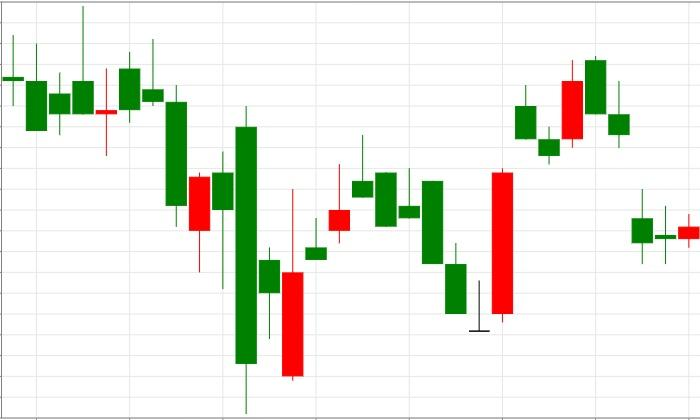morning_star_rise: (351, 134, 514, 333)
shooting_star_fall: (282, 135, 374, 381)
three_black_crows_fall: (538, 55, 654, 264)
